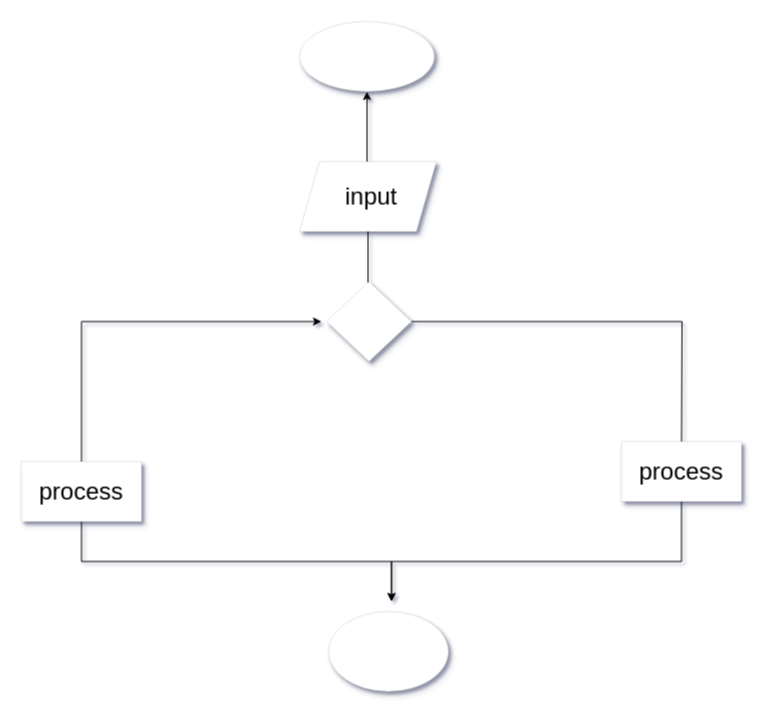
Some shapes in this 770 by 721 pixel diagram are drawn without their labels. The centre of each missing label's shape, as x and y in pixels:
end: [389,652]
start: [367,57]
